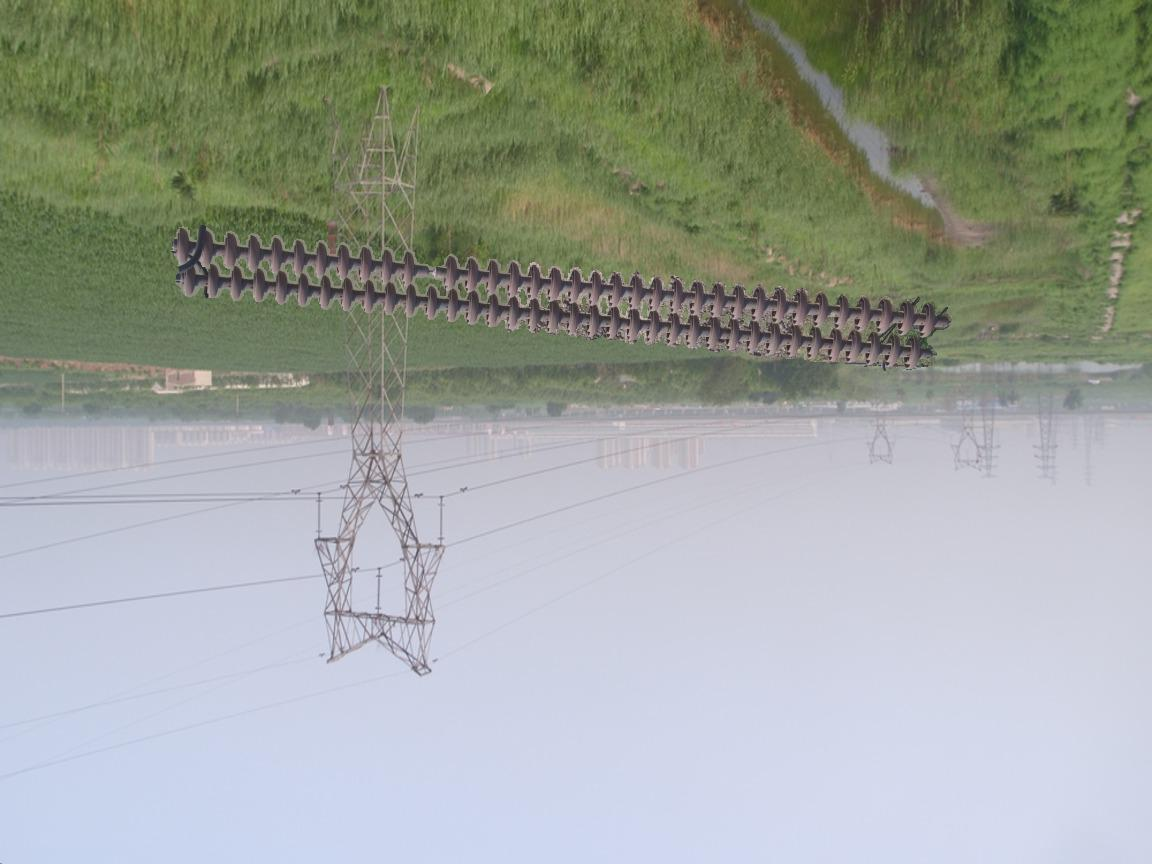insulator: (170, 221, 948, 371)
insulator_stringdrop: (401, 249, 461, 292)
